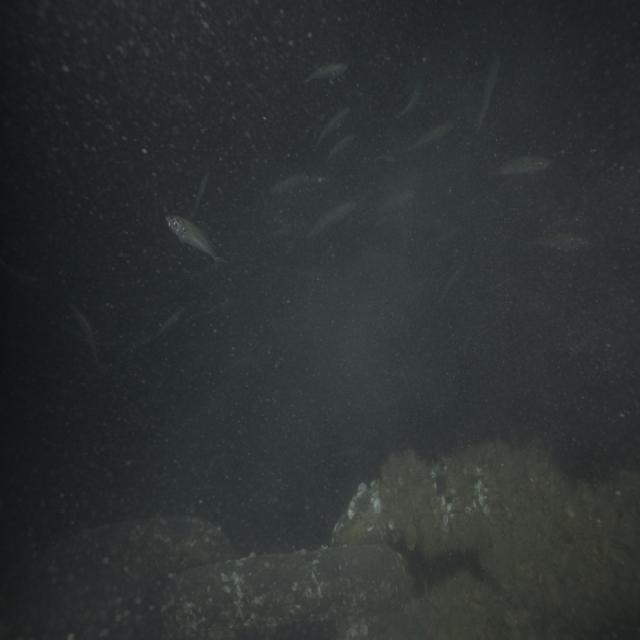ChainLink: (164, 545, 411, 639)
